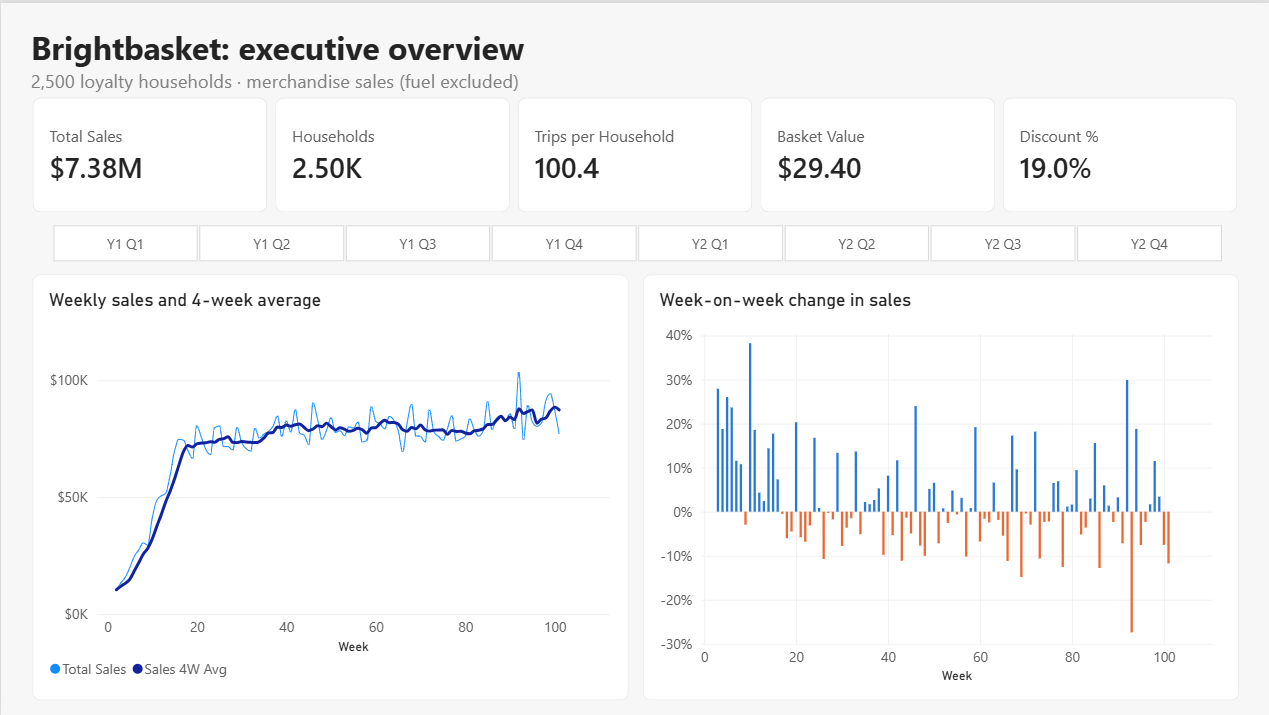

Layout of this report page (visuals, bound fields, positions):
{"tool":"powerbi","page":{"name":"Executive overview","canvas":[1280,720],"ordinal":0},"visuals":[{"type":"textbox","box":[31,23,548,72],"z":0},{"type":"cardVisual","fields":{"Data":["_Measures.Total Sales","_Measures.Households","_Measures.Trips per Household","_Measures.Basket Value","_Measures.Discount %"]},"box":[31.1,95.6,1220,116],"z":1000},{"type":"lineChart","title":"Weekly sales and 4-week average","fields":{"Category":["dim_week.week_no"],"Y":["_Measures.Total Sales","_Measures.Sales 4W Avg"]},"box":[31.1,274,602,430],"z":2000},{"type":"clusteredColumnChart","title":"Week-on-week change in sales","fields":{"Category":["dim_week.week_no"],"Y":["_Measures.Sales WoW %"]},"box":[649,274,602,430],"z":3000},{"type":"slicer","fields":{"Values":["dim_week.Quarter"]},"box":[31.1,222,1220,40],"z":4000}]}

Visuals, with their boxes in screenshot pixels (x1, y1, x2, y2), scaled from the page's 1280x720 canvas onto the 1269x715 screenshot:
textbox: (x1=31, y1=23, x2=574, y2=94)
cardVisual - _Measures.Total Sales x _Measures.Households: (x1=31, y1=95, x2=1240, y2=210)
"Weekly sales and 4-week average" lineChart: (x1=31, y1=272, x2=628, y2=699)
"Week-on-week change in sales" clusteredColumnChart: (x1=643, y1=272, x2=1240, y2=699)
slicer - dim_week.Quarter: (x1=31, y1=220, x2=1240, y2=260)
